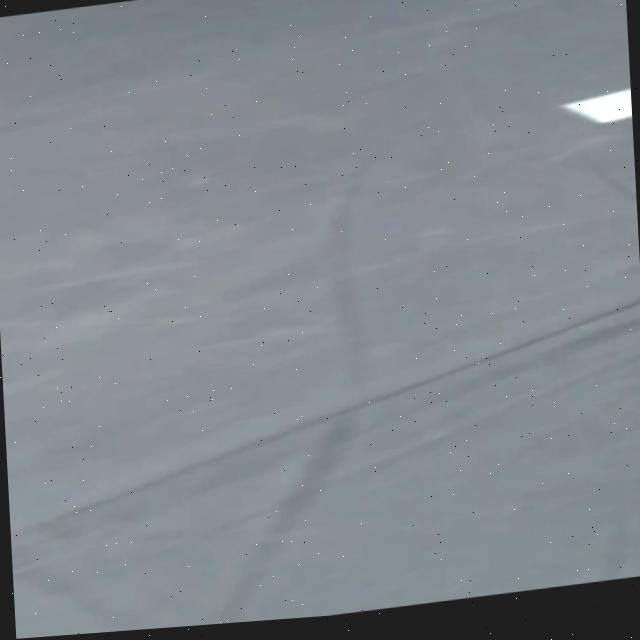center: (560, 87, 632, 122)
